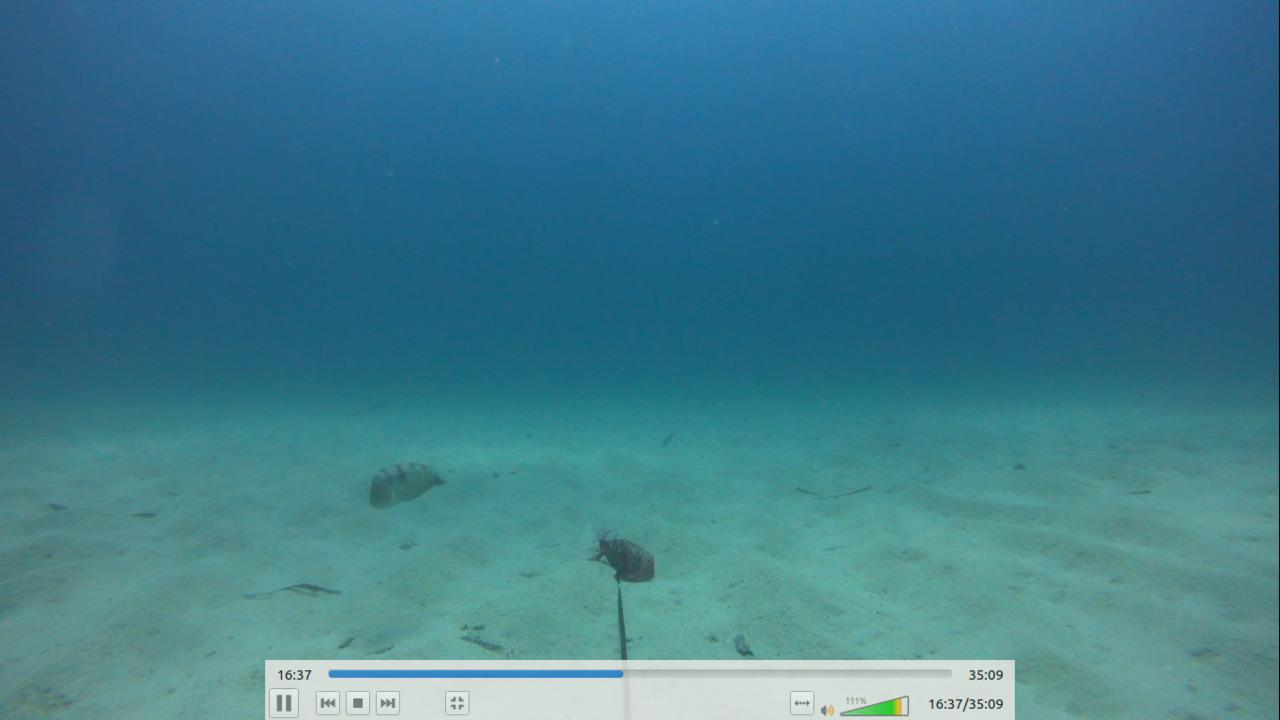raor: (359, 454, 455, 508)
